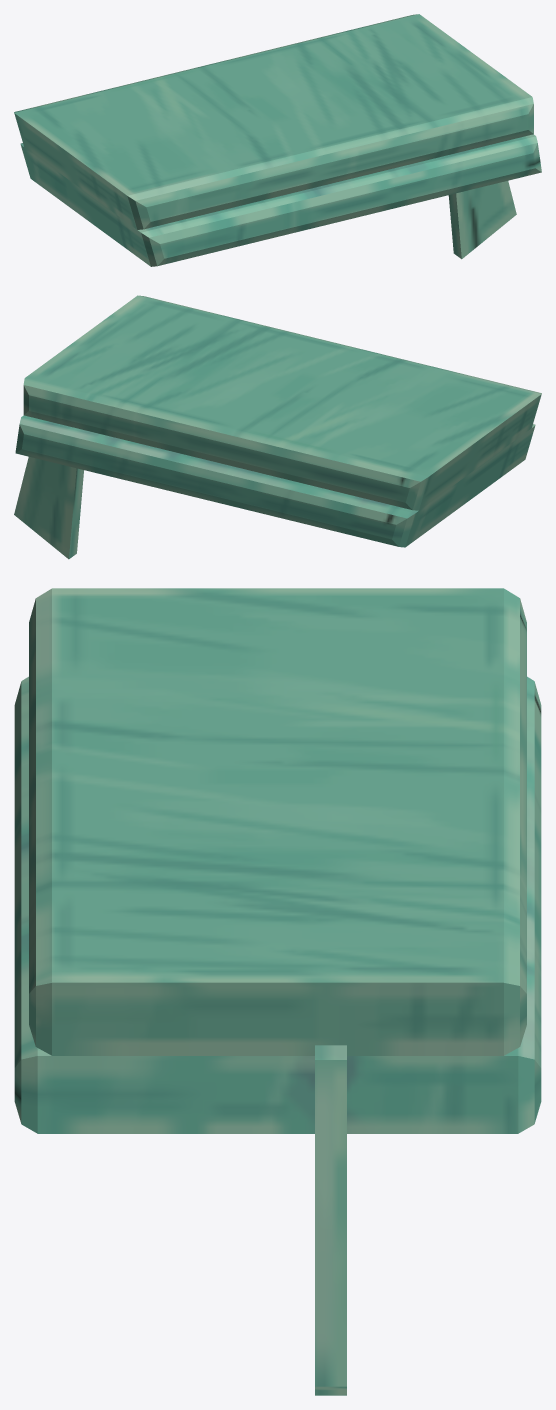
Rendered from pistol_charm.fbx.
3 renders of one model, top to bottom at view 1: azimuth 30°, elevation 25°; view 2: azimuth 150°, elevation 25°; view 3: azimuth 270°, elevation 25°, orthographic. The views are drawn at different scales.
Visible parts, largest first — view 1: pistol_charm; view 2: pistol_charm; view 3: pistol_charm.
Boxes of the visible parts, x1,y1,x2,y2 form: pistol_charm: (14, 14, 541, 266); pistol_charm: (14, 295, 541, 559); pistol_charm: (14, 588, 541, 1395).
Size of the model in its own units: 0.3413 by 0.15 by 0.1714.
